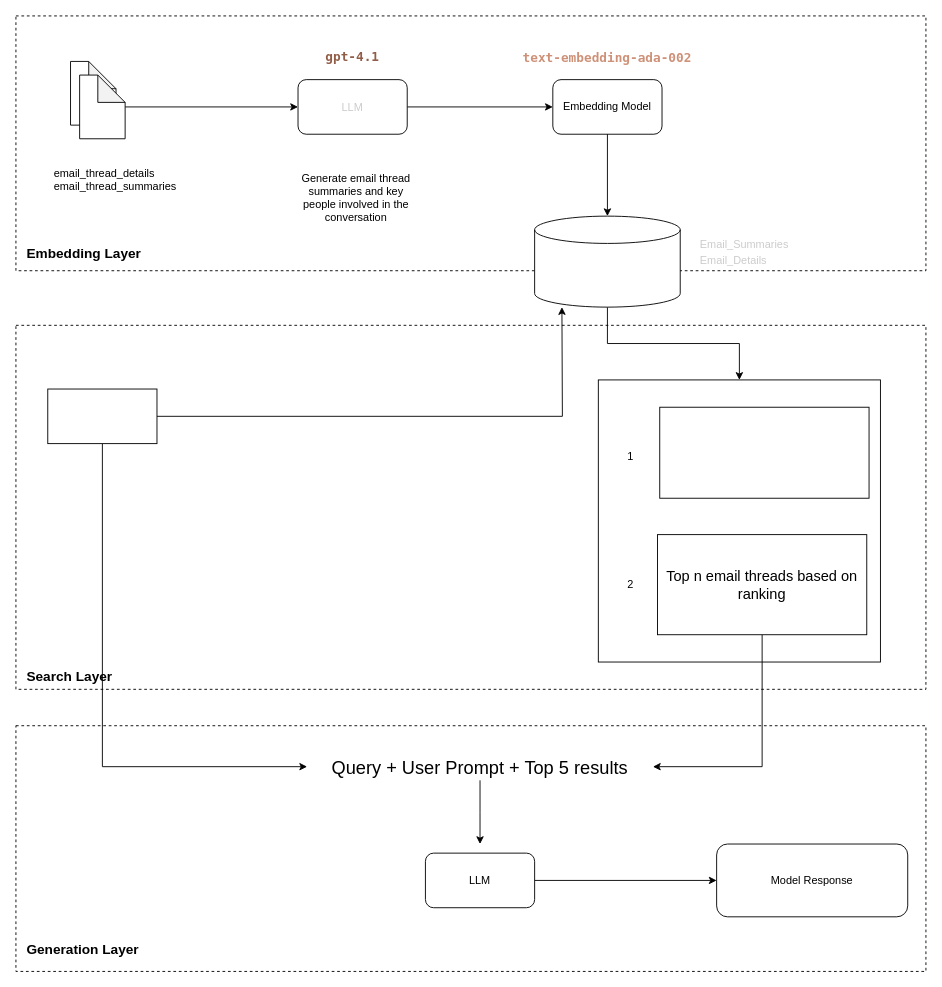
The diagram is 942 pixels wide and 987 high, and some of its shapes have lost their labels. The centre of each missing label's shape, as x and y in pixels:
Chroma DB: pixel 607 261
Top n search results from summary collection based on distance: pixel 764 452
User Query: pixel 102 416
